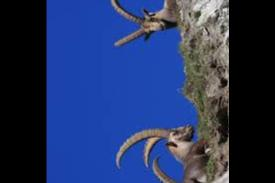Non_Gorille: (73, 0, 216, 183)
